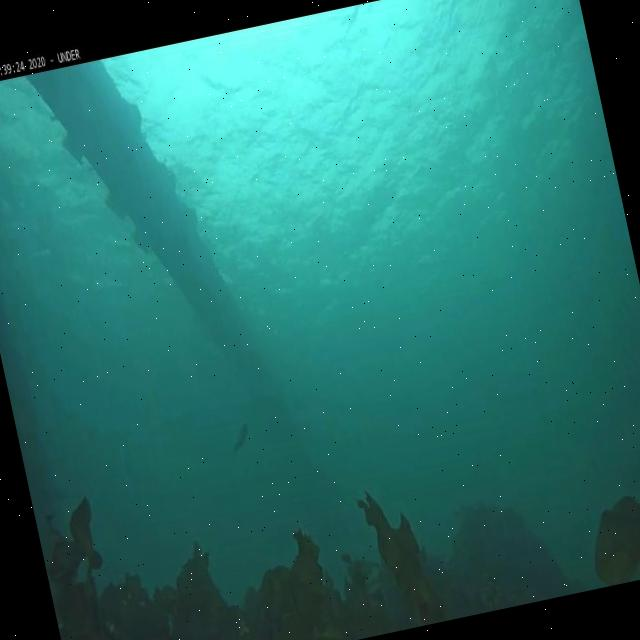fish: (228, 422, 254, 454)
